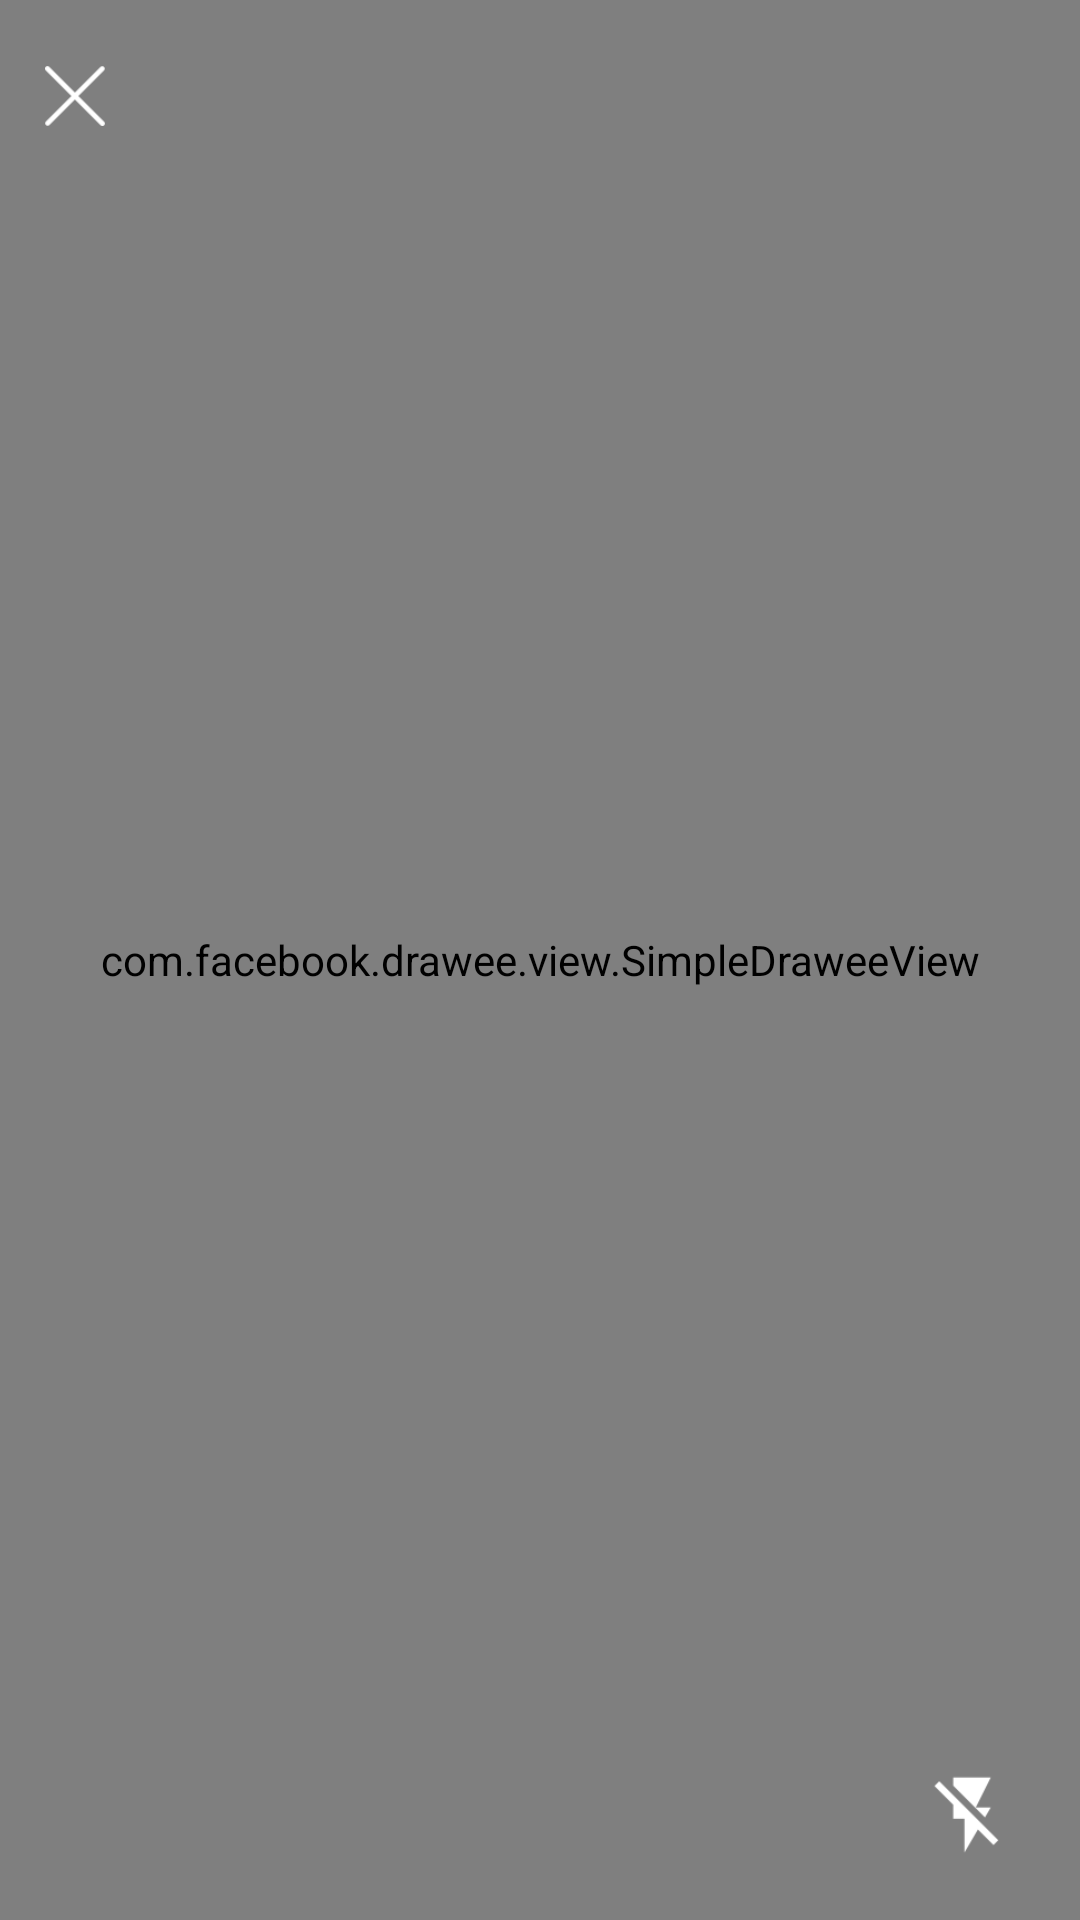

Where icons sit on this 1080x1920 app screen, as (x1,y1,x2,y2):
close: (45,66,105,126)
flash off: (934,1777,998,1852)
